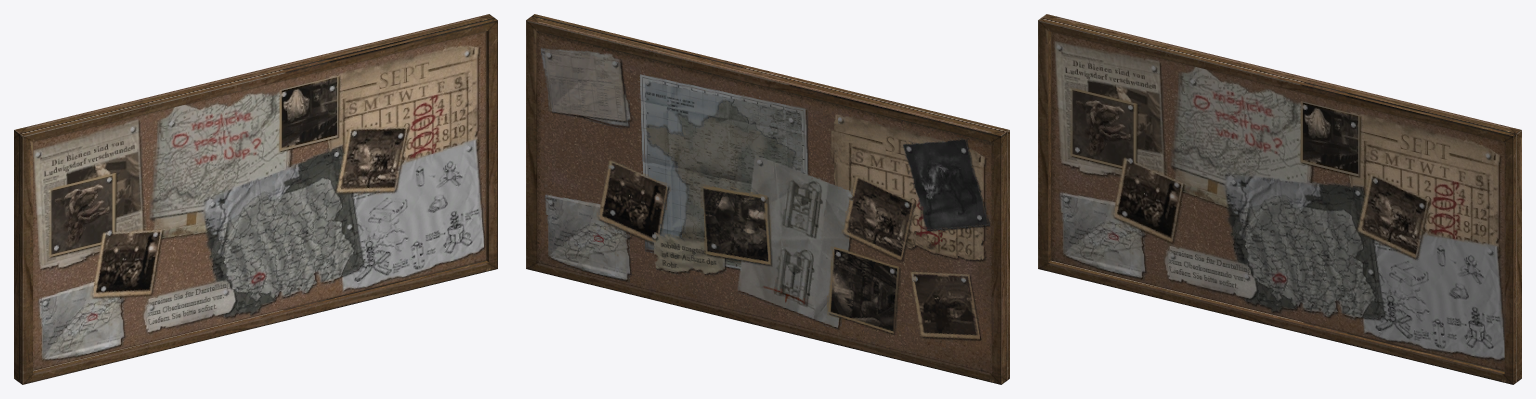
3 views of the same model, side by side, from view 1: azimuth 30°, elevation 25°; view 2: azimuth 150°, elevation 25°; view 3: azimuth 330°, elevation 25° (orthographic).
Visible parts, largest first — view 1: der_riese_Board_3_1; view 2: der_riese_Board_3_1; view 3: der_riese_Board_3_1.
Part boxes in pixels (x1=…): der_riese_Board_3_1: x1=14, y1=14, x2=497, y2=384; der_riese_Board_3_1: x1=526, y1=14, x2=1009, y2=384; der_riese_Board_3_1: x1=1038, y1=14, x2=1521, y2=384.
Bounding box in the file's own units: 3.05 × 1.52 × 0.0953.
2 materials, 2 textured.
